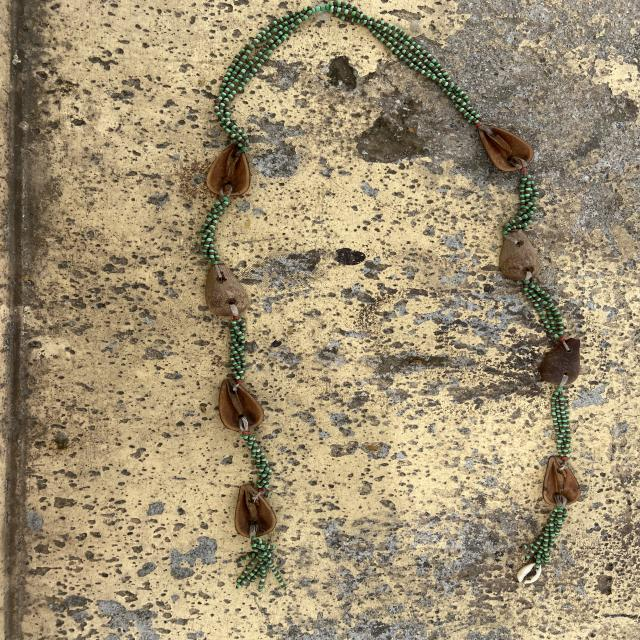facedown: (190, 260, 258, 322), (494, 222, 548, 286), (536, 329, 588, 387)
faceup: (475, 119, 539, 178), (210, 374, 270, 436), (202, 140, 256, 202), (228, 479, 282, 540), (536, 450, 585, 510), (233, 292, 233, 292)
